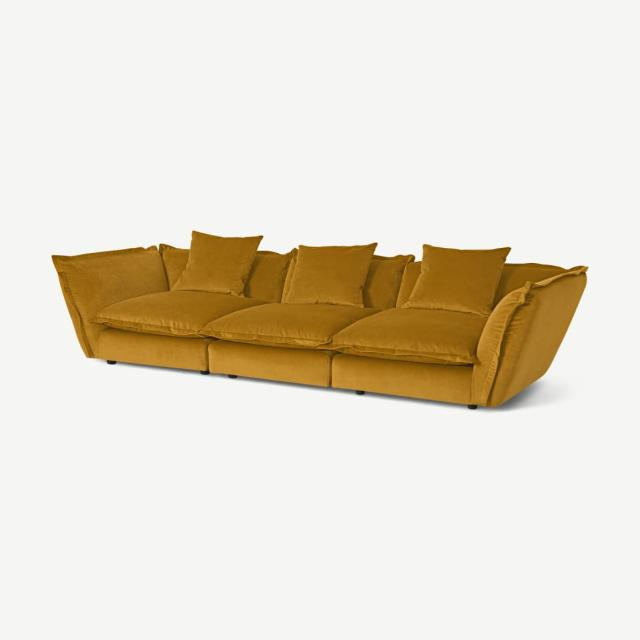back_cushion: (160, 231, 571, 315)
left_arm: (470, 267, 585, 406)
legs: (224, 374, 238, 378), (468, 403, 477, 409), (354, 390, 364, 395), (200, 370, 210, 375), (105, 360, 116, 364)
right_arm: (51, 246, 168, 357)
seat_cushion: (78, 291, 491, 408)
stallion-sofa: (0, 0, 639, 639)
